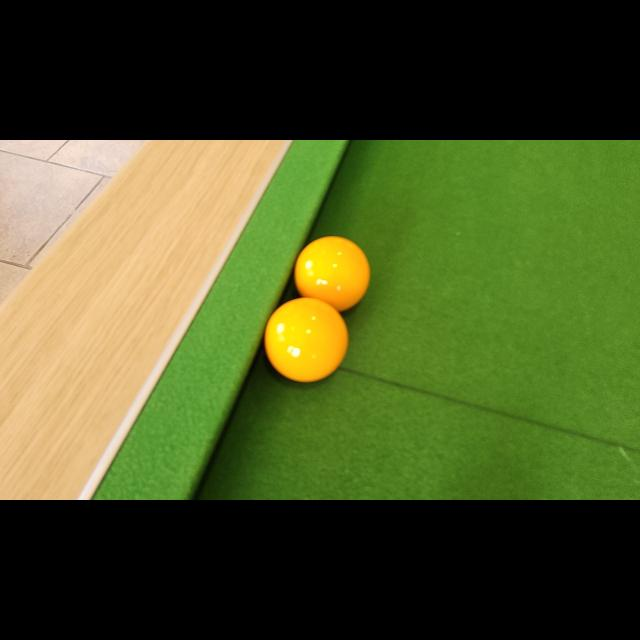Ball: (264, 297, 350, 383), (294, 236, 370, 314)
